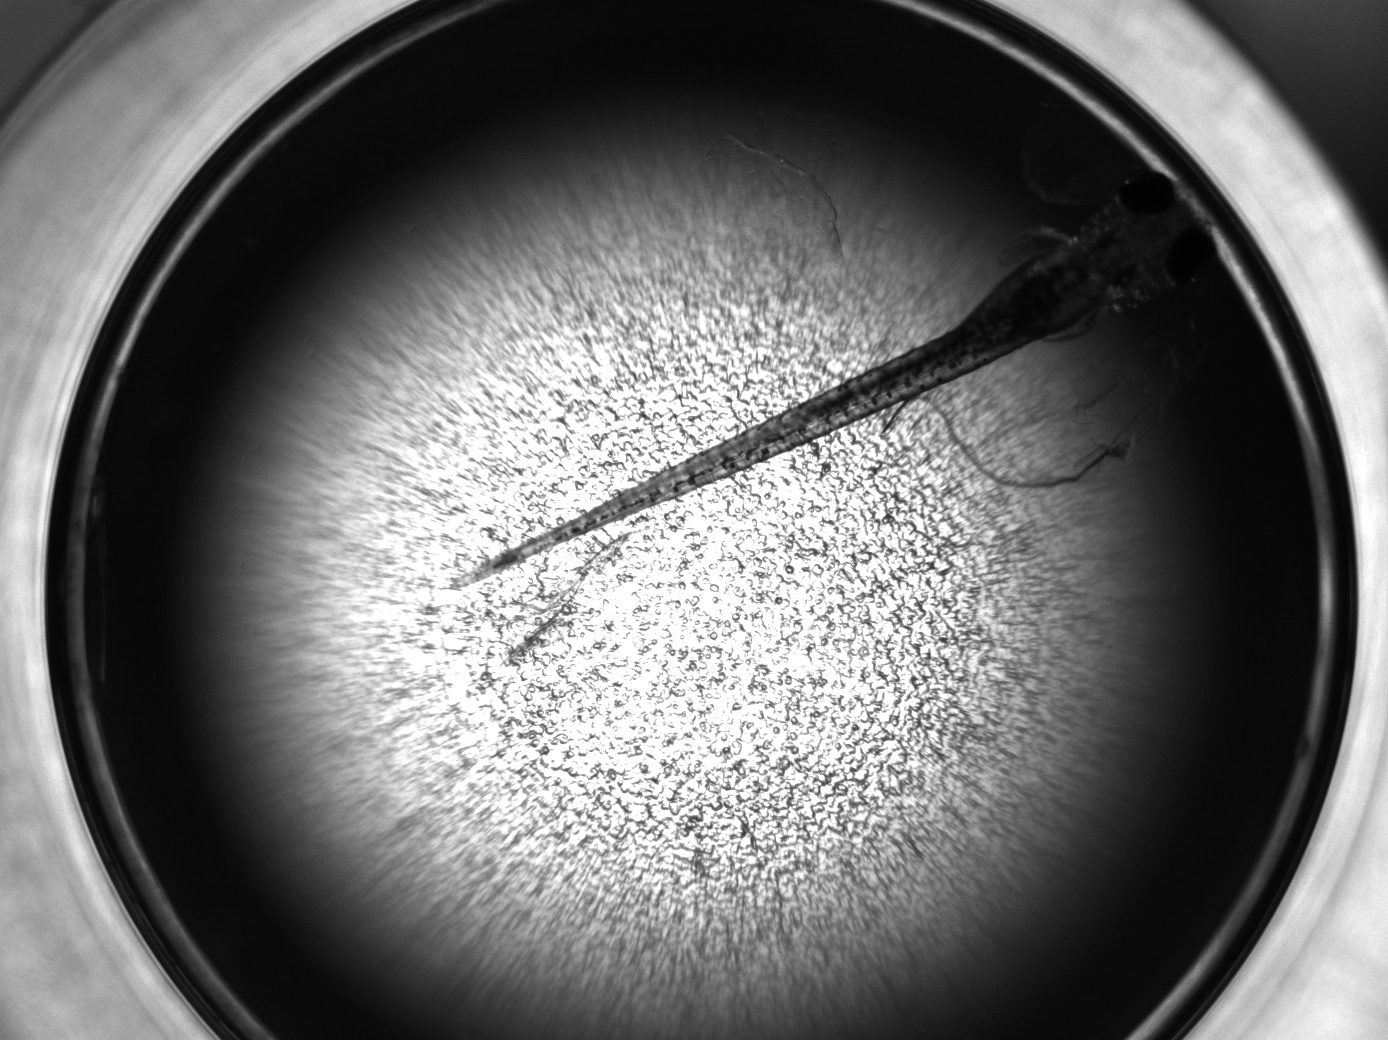embryo: (453, 168, 1218, 588)
eye: (1163, 227, 1217, 286), (1117, 169, 1175, 218)
yolksac: (974, 243, 1107, 344)
